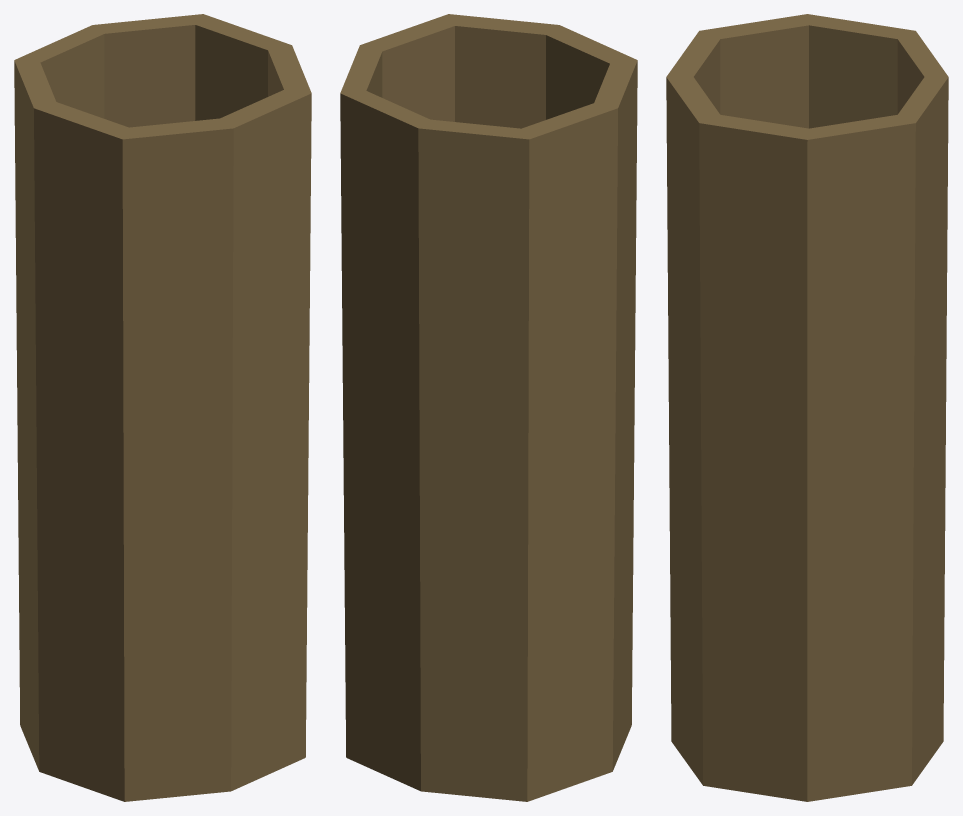
Rendered from rouleau_pq_vide.fbx.
The picture shows the model from 3 angles, left to right: view 1: azimuth 30°, elevation 25°; view 2: azimuth 150°, elevation 25°; view 3: azimuth 270°, elevation 25°; orthographic projection.
Visible parts, largest first — view 1: rouleau pq vide; view 2: rouleau pq vide; view 3: rouleau pq vide.
Part boxes in pixels (x1,y1,x2,y2): rouleau pq vide: [14, 14, 311, 801]; rouleau pq vide: [340, 14, 637, 801]; rouleau pq vide: [666, 14, 948, 801].
Bounding box in the file's own units: 40.64 × 100 × 38.5.
